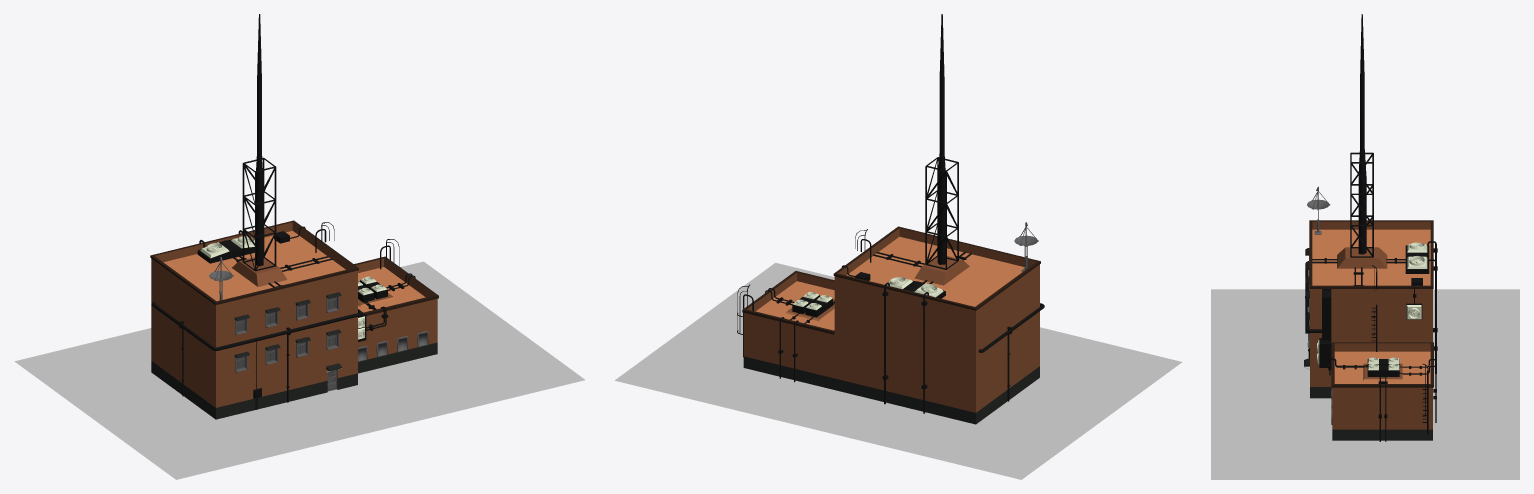
Rendered from ghetto.obj.
3 renders of one model, left to right at view 1: azimuth 30°, elevation 25°; view 2: azimuth 150°, elevation 25°; view 3: azimuth 270°, elevation 25°, orthographic. The views are drawn at different scales.
Visible parts, largest first — view 1: Plane.020_Material, Plane_Material.001, Plane_Material.009, Plane.022_s.001, Plane_Material.014, Plane_Material.004_B_1, Plane_Material.011; view 2: Plane.020_Material, Plane_Material.001, Plane_Material.009, Plane_Material.014, Plane.022_s.001, Plane_Material.004_B_1, Plane_Material.011; view 3: Plane.020_Material, Plane_Material.009, Plane_Material.014, Plane.022_s.001, Plane_Material.011, Plane_Material.010, Plane_Material.001.
Part boxes in pixels (x1,y1,x2,y2): Plane.020_Material: (14, 261, 584, 479); Plane_Material.001: (216, 257, 437, 407); Plane_Material.009: (151, 222, 433, 407); Plane.022_s.001: (151, 14, 415, 409); Plane_Material.014: (163, 230, 425, 312); Plane_Material.004_B_1: (151, 342, 437, 419); Plane_Material.011: (150, 220, 438, 315); Plane.020_Material: (615, 262, 1182, 479); Plane_Material.001: (743, 256, 975, 412); Plane_Material.009: (747, 228, 1039, 412); Plane_Material.014: (755, 236, 1024, 330); Plane.022_s.001: (765, 14, 1044, 413); Plane_Material.004_B_1: (743, 356, 1039, 424); Plane_Material.011: (742, 226, 1040, 334); Plane.020_Material: (1211, 289, 1519, 479); Plane_Material.009: (1310, 221, 1432, 429); Plane_Material.014: (1312, 229, 1430, 383); Plane.022_s.001: (1305, 14, 1437, 441); Plane_Material.011: (1309, 220, 1433, 387); Plane_Material.010: (1310, 387, 1432, 440); Plane_Material.001: (1337, 247, 1402, 378).
Size of the model in its own units: 40.32 by 34.8 by 27.63.
